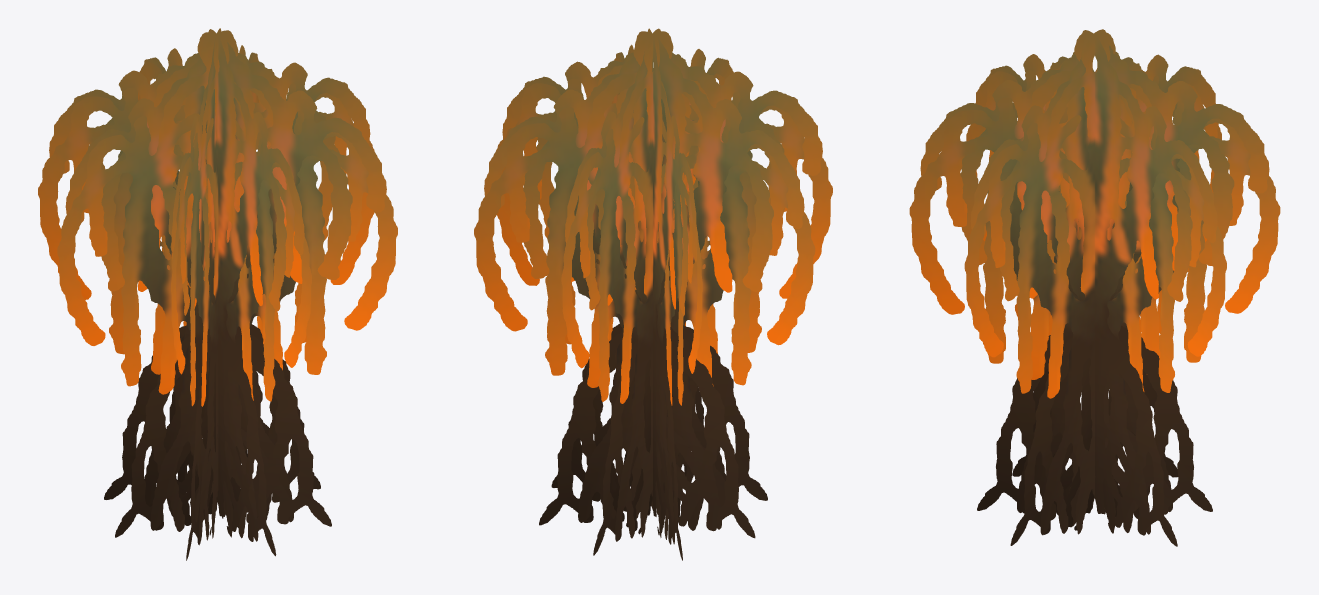
File: painted-weed-084.glb
3 views of the same model, side by side, from view 1: azimuth 30°, elevation 25°; view 2: azimuth 150°, elevation 25°; view 3: azimuth 270°, elevation 25° (orthographic).
Bounding box in the file's own units: 7.17 × 10.09 × 7.17.
Materials: 1 (1 with a texture image).
